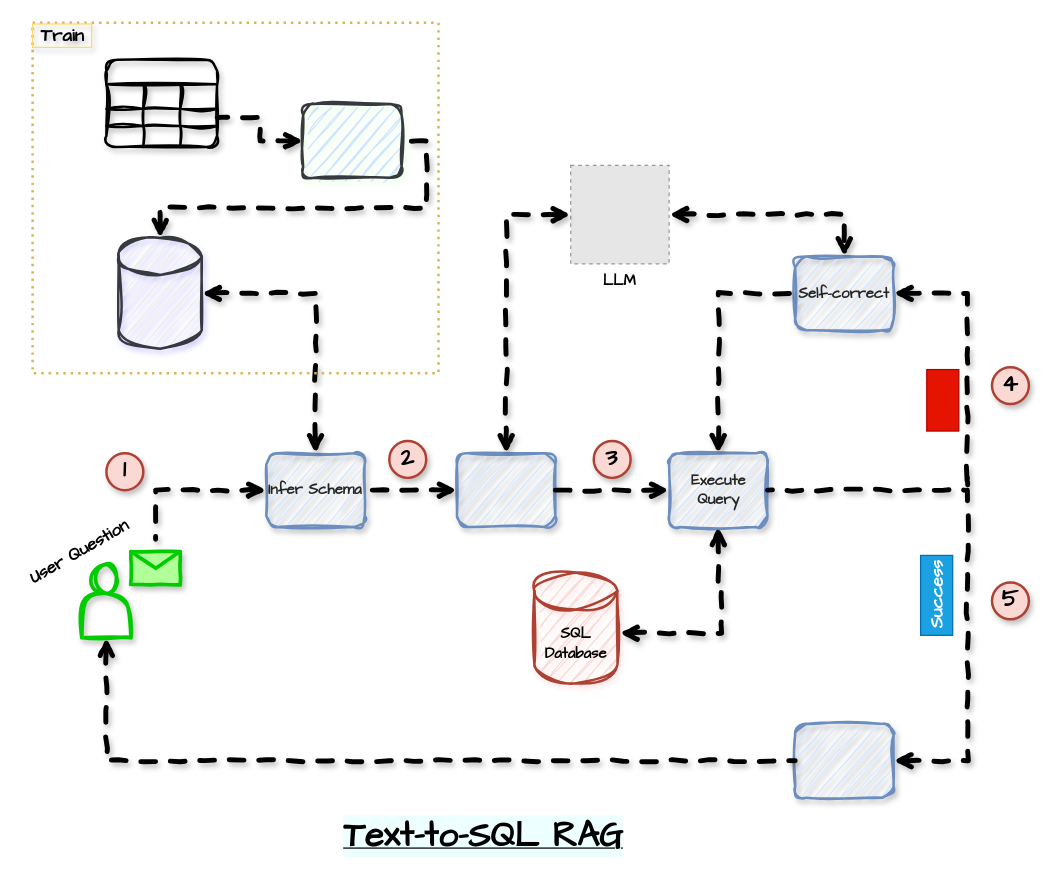
Image size: 1059x879. Some labels were removed from this diagram. Grey dashed boxes stand in for pictures. The centre of each missing label's shape, as x and y in pixels:
Construct SQL Query: point (506, 491)
Error: point (942, 399)
Index Table Informations: point (353, 142)
SQL Table: point (162, 104)
Transform Response: point (845, 762)
Vector Database: point (161, 294)
